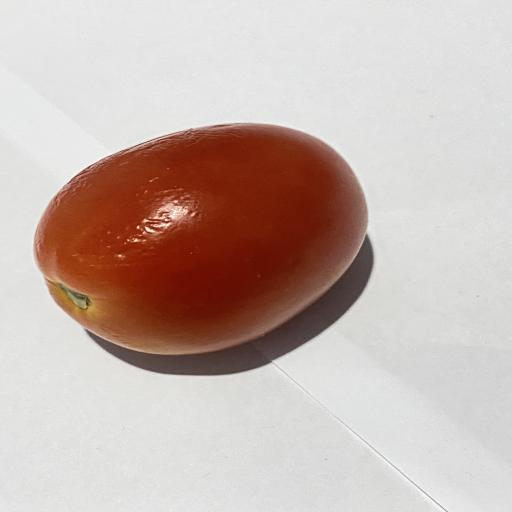spoiled: (35, 123, 367, 354)
